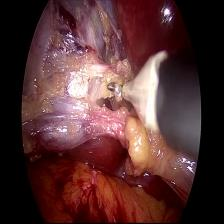Hook: (106, 46, 170, 132)
